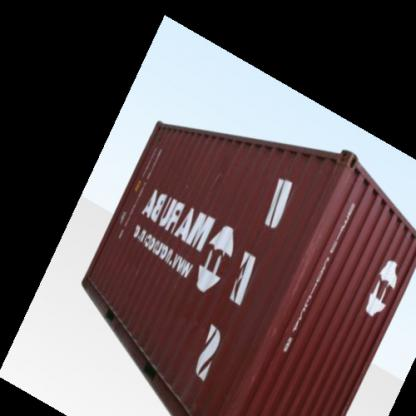Damage: (283, 230, 316, 308), (195, 159, 229, 199)
